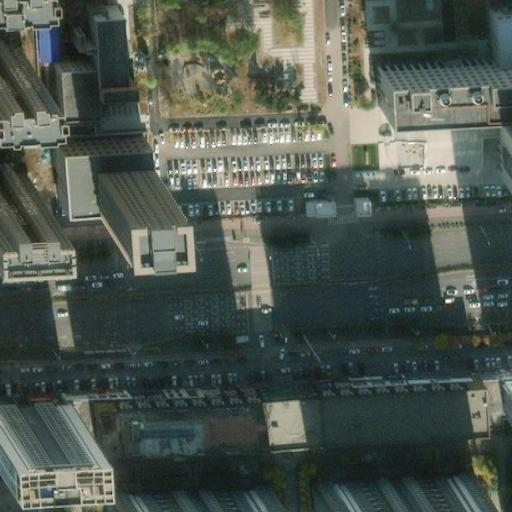building: (371, 50, 512, 106), (301, 473, 469, 512), (48, 120, 145, 187), (97, 484, 264, 512), (48, 46, 122, 104), (76, 133, 149, 185), (0, 398, 72, 439), (484, 0, 512, 53), (0, 160, 32, 192), (491, 129, 512, 176), (493, 377, 512, 414), (0, 42, 22, 73), (64, 20, 84, 37)
